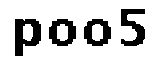5: (117, 4, 149, 50)
o: (46, 16, 78, 48), (81, 17, 112, 49)
p: (11, 14, 43, 60)
